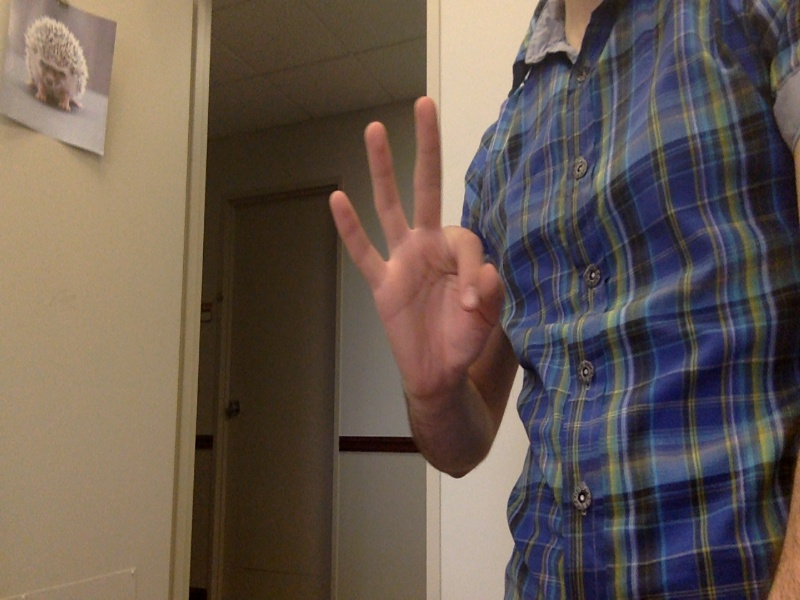3-hand: (326, 97, 502, 406)
